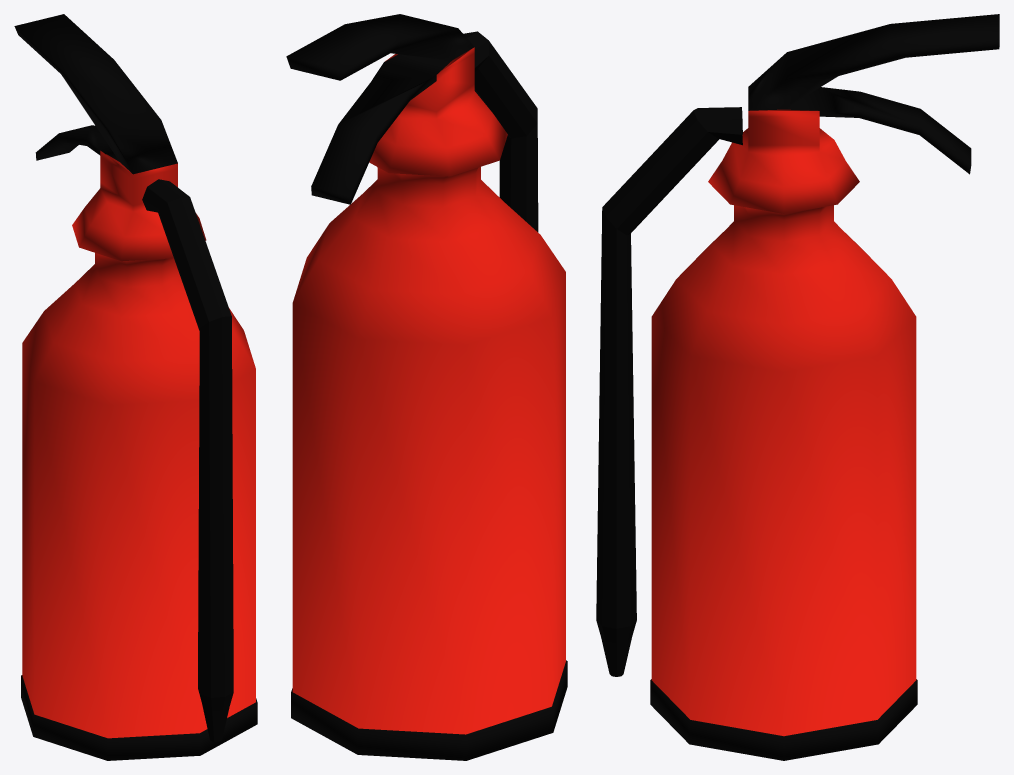
The model's file is FIreExtingusherOtherParts.fbx.
The picture shows the model from 3 angles, left to right: view 1: azimuth 30°, elevation 25°; view 2: azimuth 150°, elevation 25°; view 3: azimuth 270°, elevation 25°; orthographic projection. The views are drawn at different scales.
Visible parts, largest first — view 1: 円, 円.001; view 2: 円, 円.001; view 3: 円, 円.001.
Part boxes in pixels (<box>): 円: <box>14,14,257,760</box>; 円.001: <box>142,179,233,741</box>; 円: <box>286,14,567,760</box>; 円.001: <box>463,31,538,232</box>; 円: <box>650,14,999,760</box>; 円.001: <box>596,107,742,676</box>.
Size of the model in its own units: 200 by 558 by 302.
